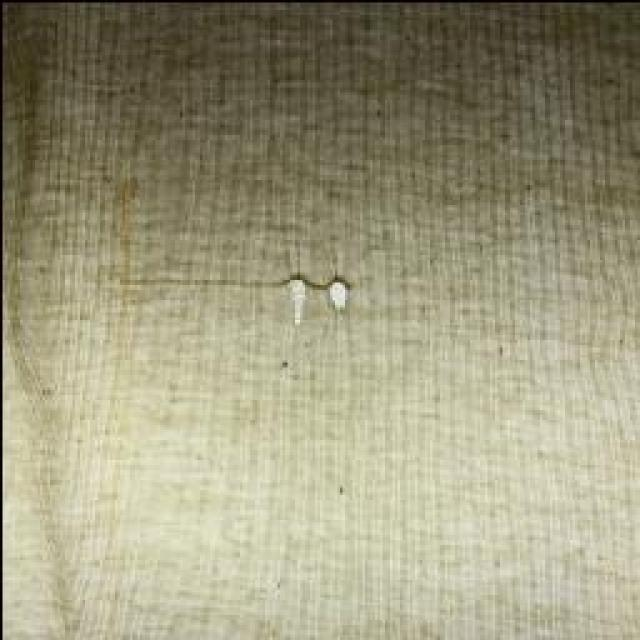other: (215, 226, 378, 368)
